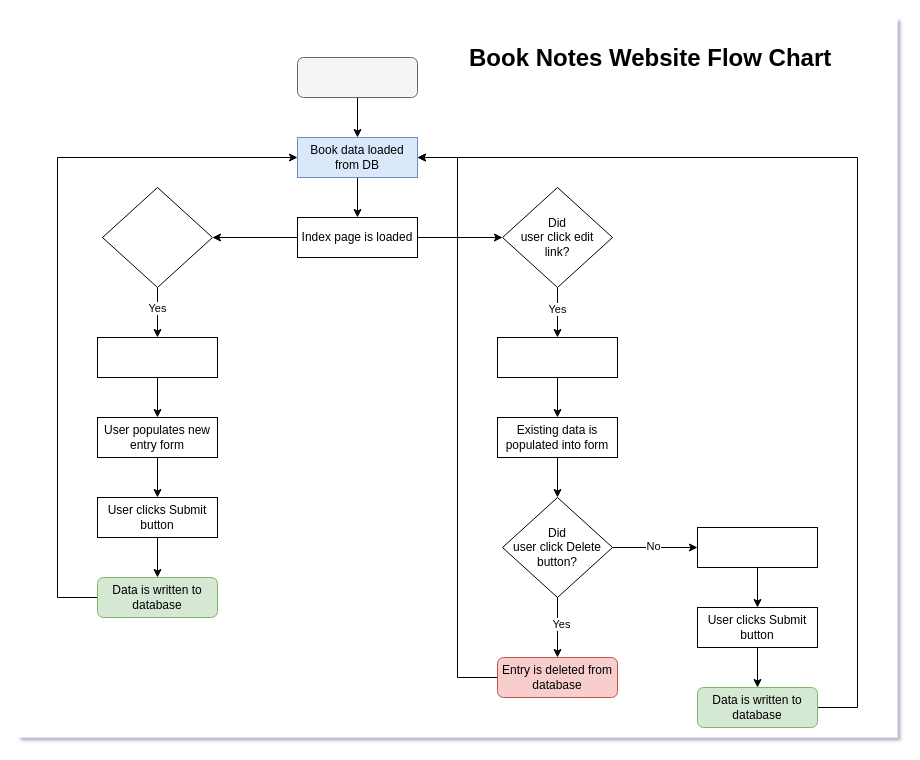
Some shapes in this 920 by 760 pixel diagram are drawn without their labels. Each missing label, with the centre of its shape:
Add page is loaded: the point at 157,357
Did user click add button?: the point at 157,237
Edit page is loaded: the point at 557,357
User modifies existing data: the point at 757,547
Website accessed: the point at 357,77
